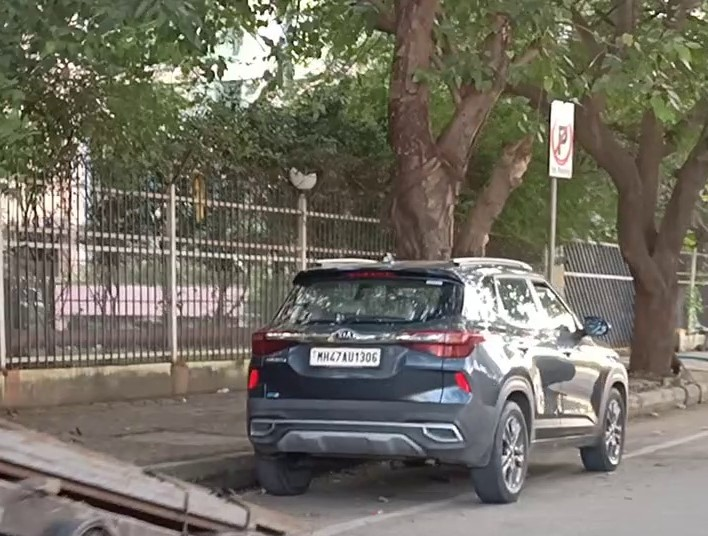MH47AU1306: (308, 347, 382, 368)
